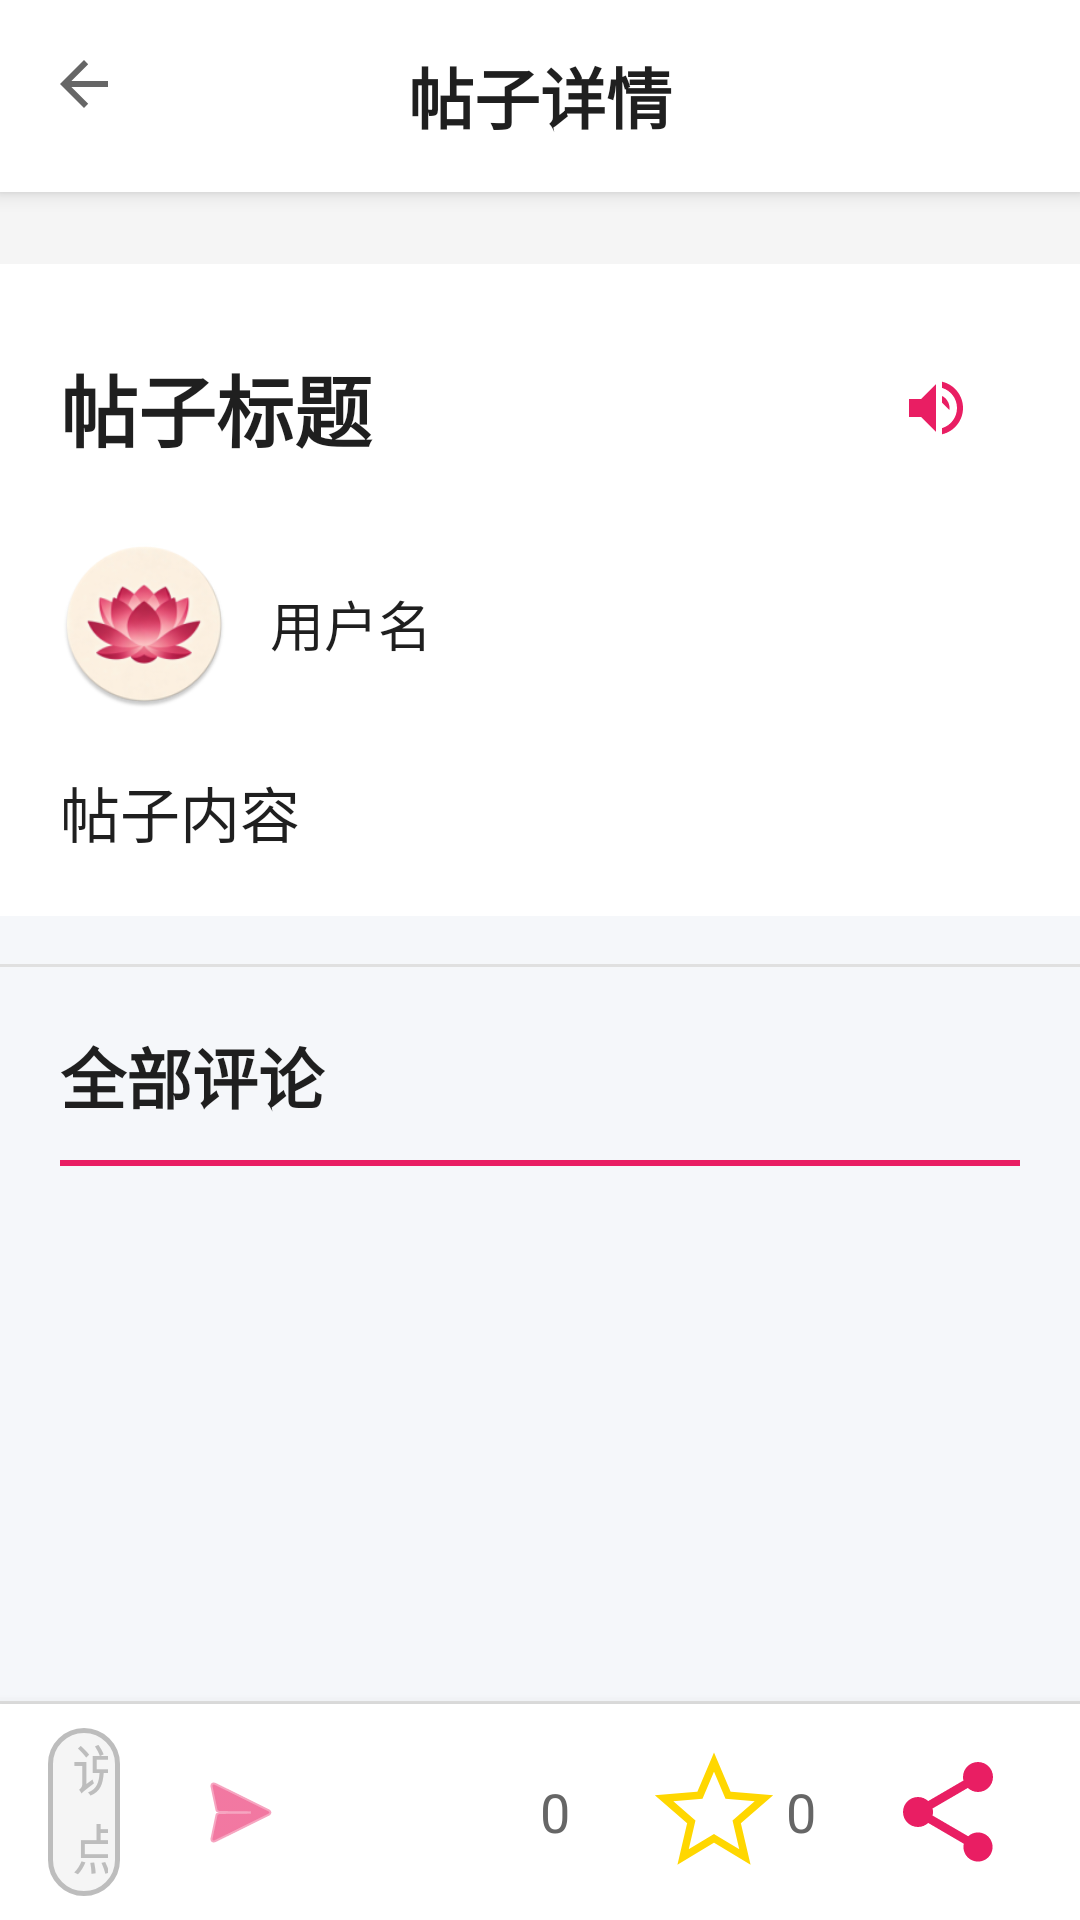

Named icons in this screenshot (1080w x 1920h) and their centers, (x=x, y=y):
share: (x=948, y=1812)
star: (x=714, y=1809)
发送评论: (x=241, y=1812)
语音播报: (x=936, y=408)
